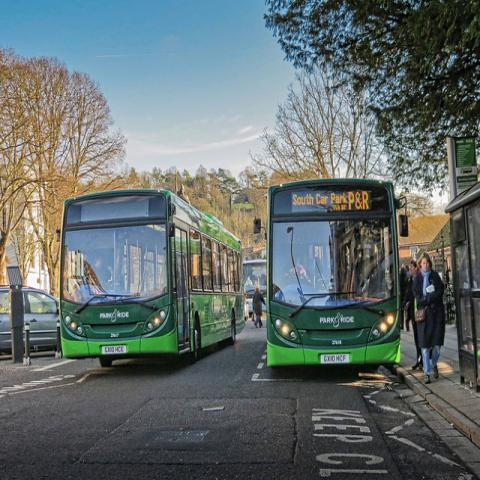bus: (59, 191, 245, 371), (266, 179, 403, 364), (243, 259, 266, 313)
car: (1, 285, 58, 347)
